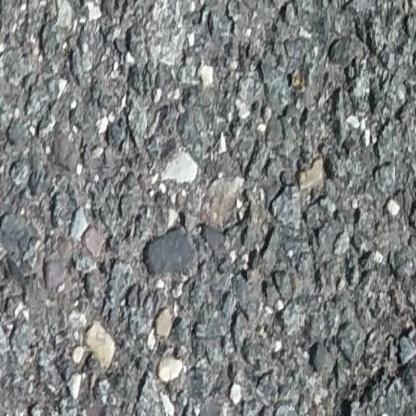Cracks: (302, 303, 416, 416)
